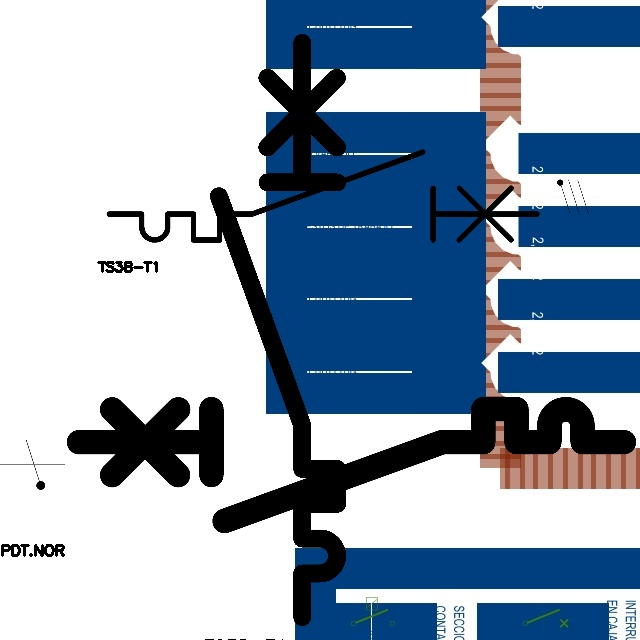interruptor_termomagnetico: (204, 28, 352, 632), (64, 395, 637, 535), (98, 141, 548, 251)
